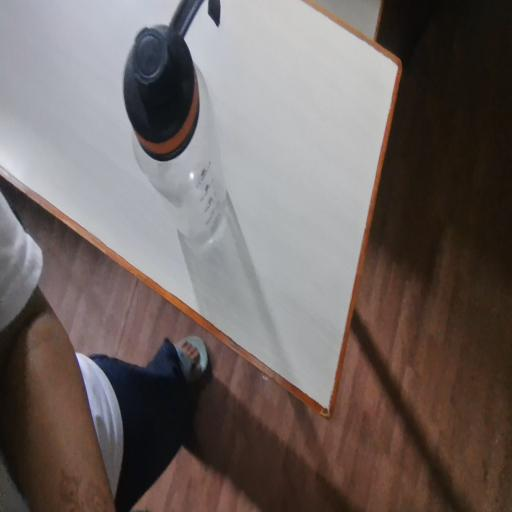Bottle: (103, 12, 295, 353)
